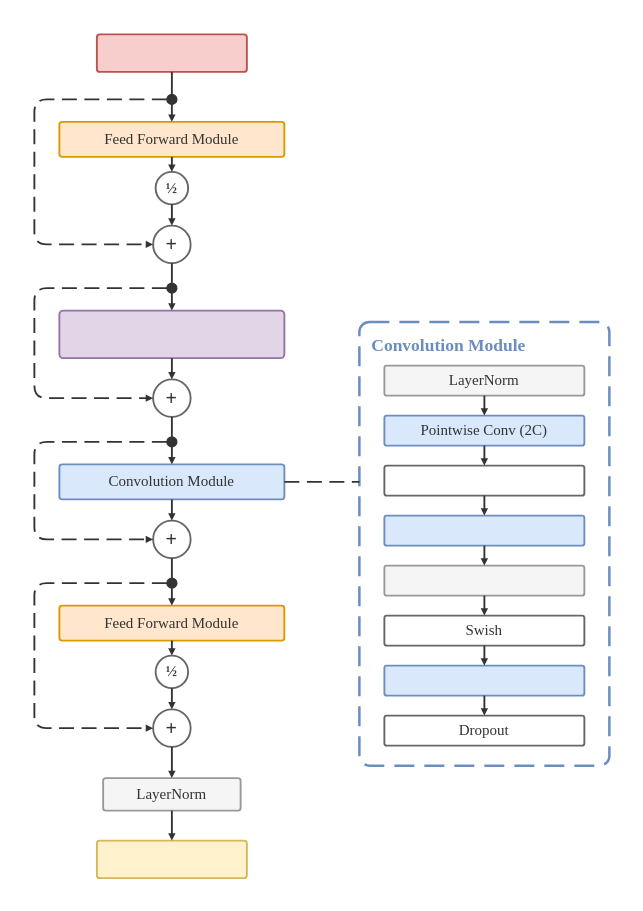
Some shapes in this 643 by 911 pixel diagram are drawn without their labels. Here are the shapes that lost their labels. From the top down, the centre of each, then its label:
At [171,52]: "Input".
At [171,333]: "Multi-Head Self-Attention (relative pos. enc.)".
At [484,480]: "GLU".
At [484,530]: "1D Depthwise Conv".
At [484,580]: "BatchNorm".
At [484,680]: "Pointwise Conv".
At [171,858]: "Output".
